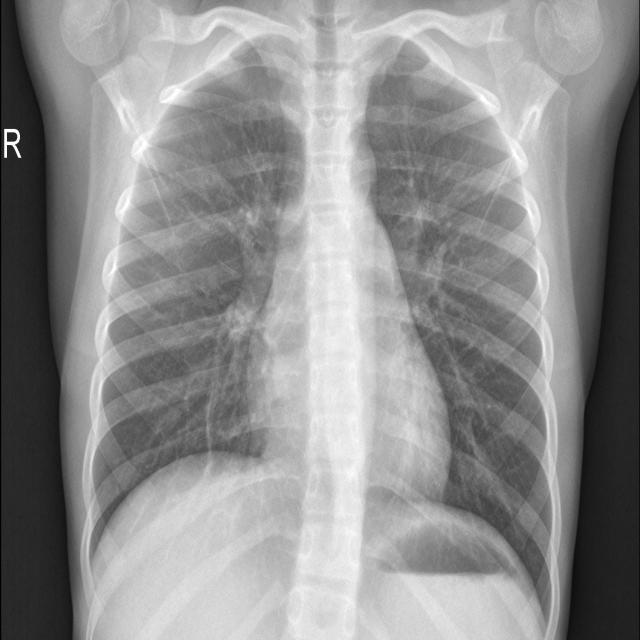no-pneumonia: (367, 42, 560, 623), (90, 46, 305, 558)
